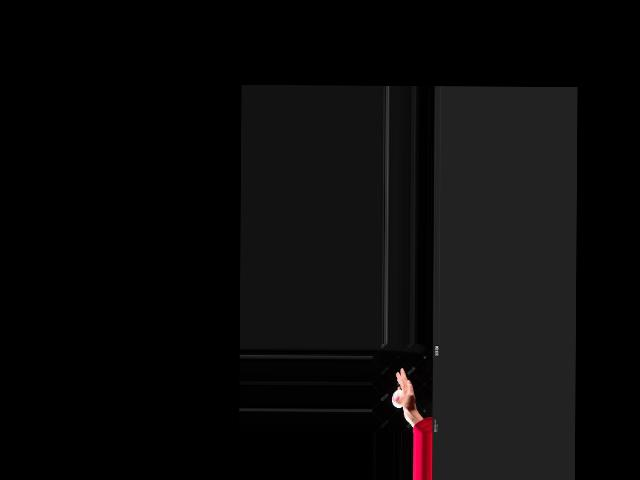egg: (392, 390, 404, 408)
